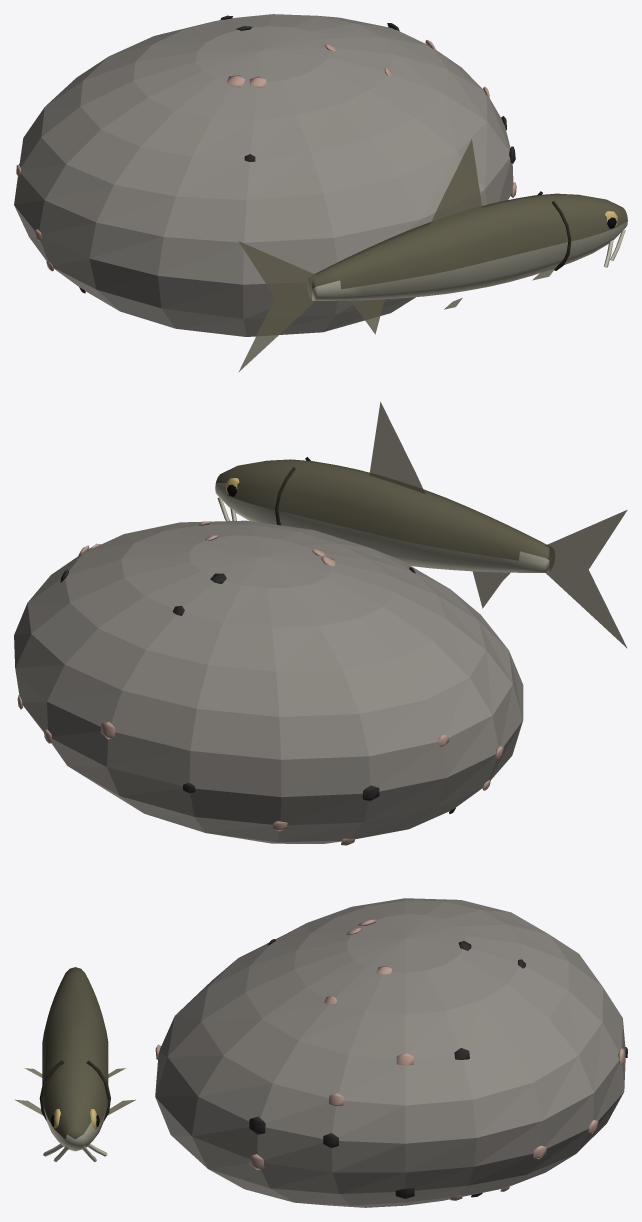
File: lake-marinka-shallows-4.glb
3 renders of one model, top to bottom at view 1: azimuth 30°, elevation 25°; view 2: azimuth 150°, elevation 25°; view 3: azimuth 270°, elevation 25°, orthographic. The views are drawn at different scales.
Visible parts, largest first — view 1: lake-marinka-shallows-4; view 2: lake-marinka-shallows-4; view 3: lake-marinka-shallows-4.
Part boxes in pixels (x1,y1,x2,y2): lake-marinka-shallows-4: (14,14,627,372); lake-marinka-shallows-4: (14,401,627,845); lake-marinka-shallows-4: (14,898,627,1207).
Size of the model in its own units: 0.5298 by 0.2932 by 0.6283.
